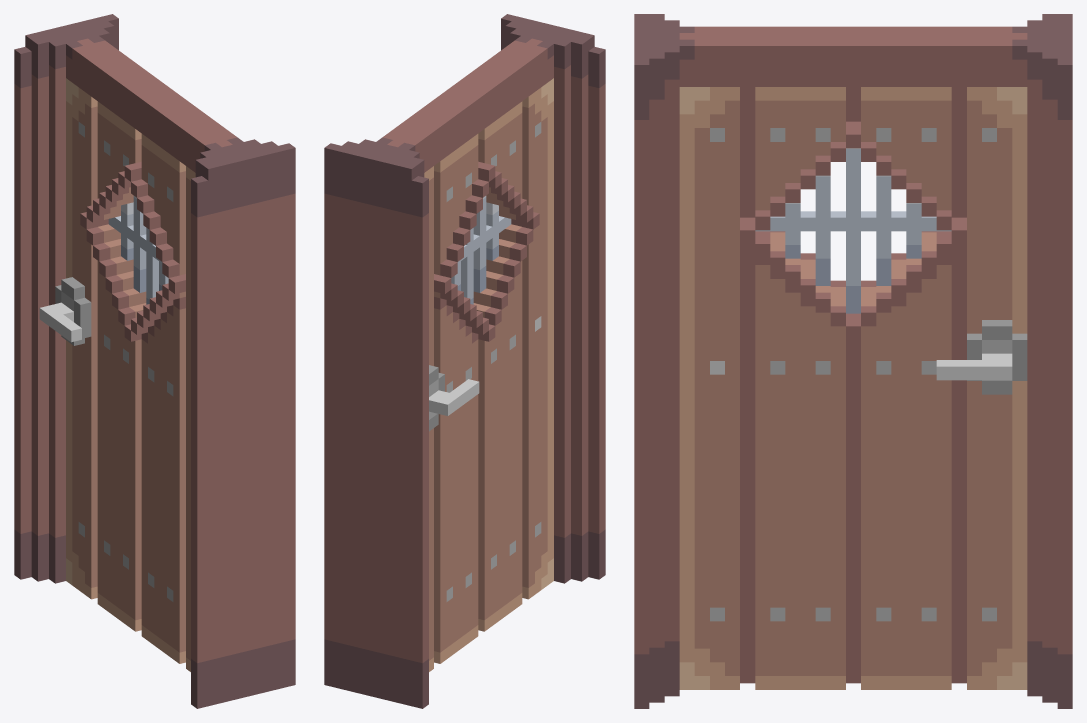
Rendered from Door.fbx.
3 renders of one model, left to right at view 1: azimuth 30°, elevation 25°; view 2: azimuth 150°, elevation 25°; view 3: azimuth 270°, elevation 25°, orthographic. The views are drawn at different scales.
Parts seen in each view (by area): view 1: doorway, Door; view 2: doorway, Door; view 3: Door, doorway.
Boxes of the visible parts, x1,y1,x2,y2 form: doorway: (14,14,295,708); Door: (39,78,195,671); doorway: (324,14,605,708); Door: (424,78,553,671); Door: (679,87,1027,689); doorway: (634,14,1072,708).
Bounding box in the file's own units: 90 × 470 × 290.
